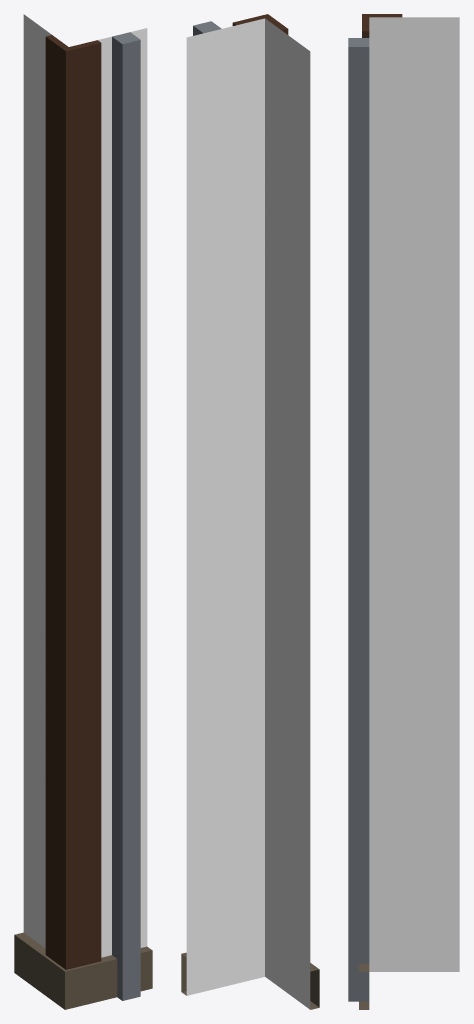
Rendered from mid-c1.fbx.
The picture shows the model from 3 angles, left to right: view 1: azimuth 30°, elevation 25°; view 2: azimuth 210°, elevation 25°; view 3: azimuth 270°, elevation 25°; orthographic projection.
Parts seen in each view (by area): view 1: a2000/0/mid-c1; view 2: a2000/0/mid-c1; view 3: a2000/0/mid-c1.
Boxes of the visible parts, x1,y1,x2,y2 form: a2000/0/mid-c1: (14,14,152,1009); a2000/0/mid-c1: (181,14,319,1009); a2000/0/mid-c1: (348,14,459,1009).
Bounding box in the file's own units: 0.335 × 3.5 × 0.37.
